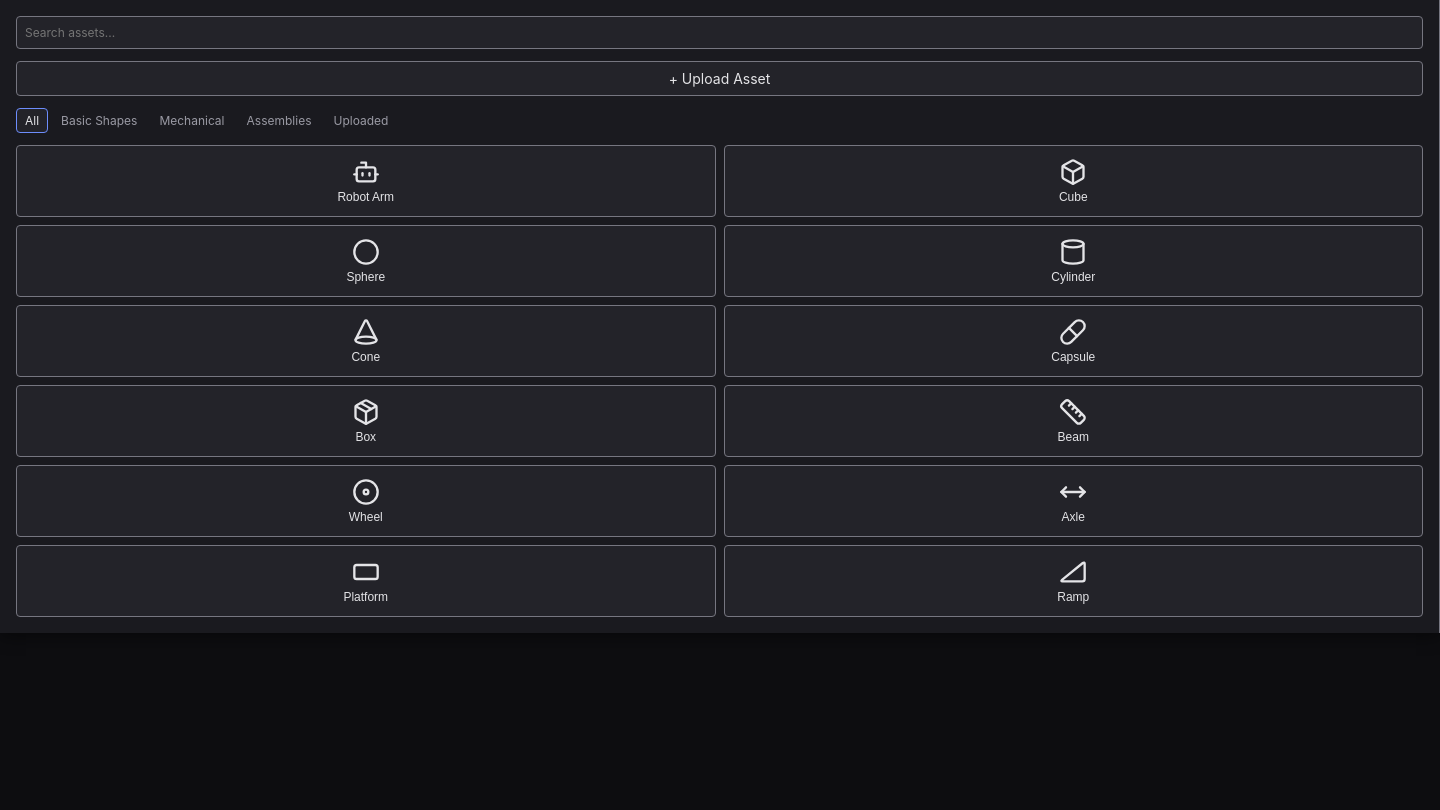
Scenario: AssetLibraryPanel › Basic Shapes shows only the five primitives; Mechanical shows only the six components
The image size is (1440, 810).
Click the tab "Basic Shapes".
click(99, 120)  # box [52, 108, 146, 133]
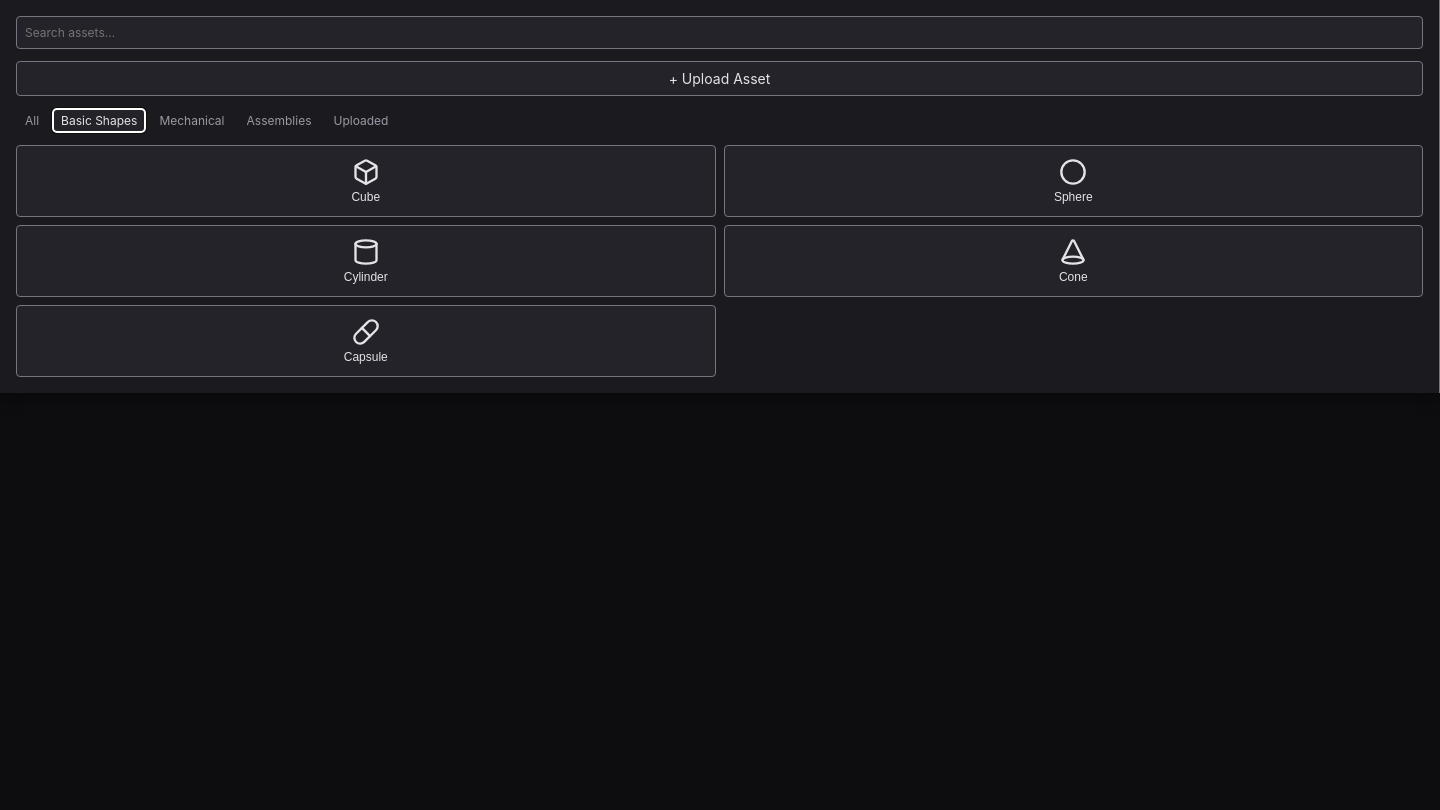
Check: the button "Cube" is shown, box [16, 145, 716, 217]
Check: the button "Wheel" is gone
Click the tab "Mechanical".
click(192, 120)  # box [150, 108, 234, 133]
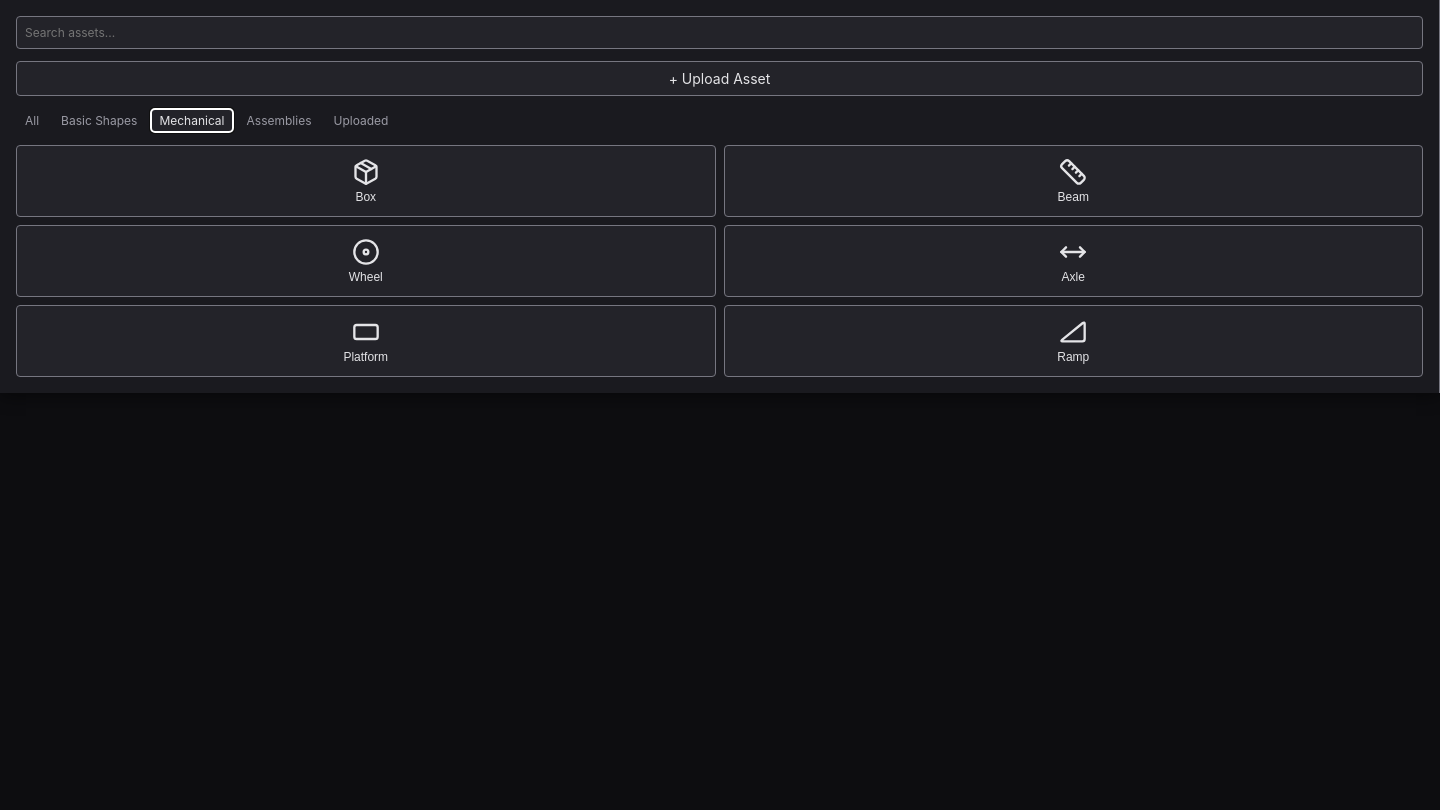
Check: the button "Wheel" is shown, box [16, 225, 716, 297]
Check: the button "Cube" is gone
